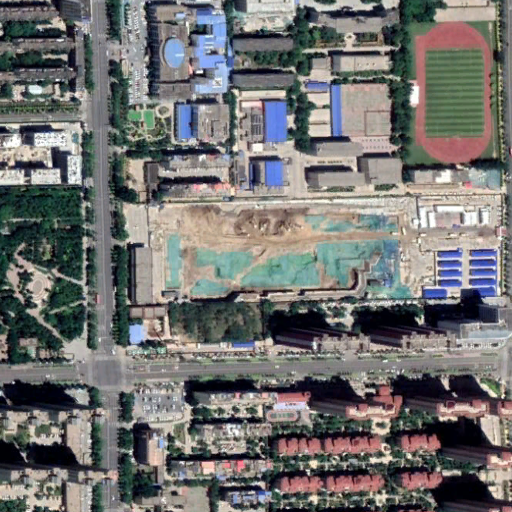cw: (151, 201, 406, 302)
